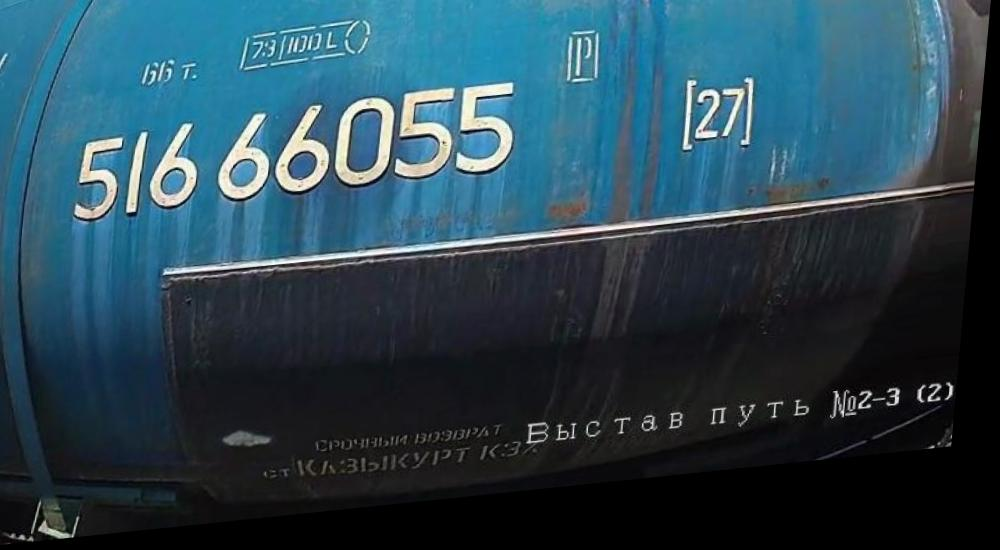Wagon-number: (68, 84, 534, 227)
